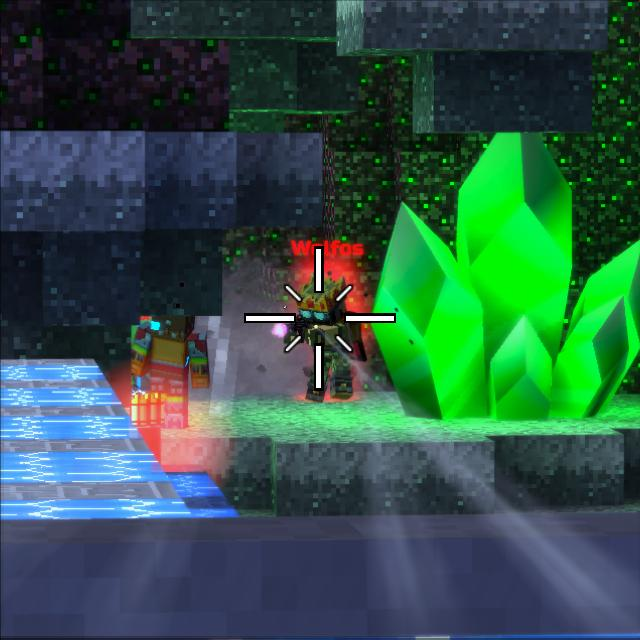Enemy: (289, 274, 365, 402)
